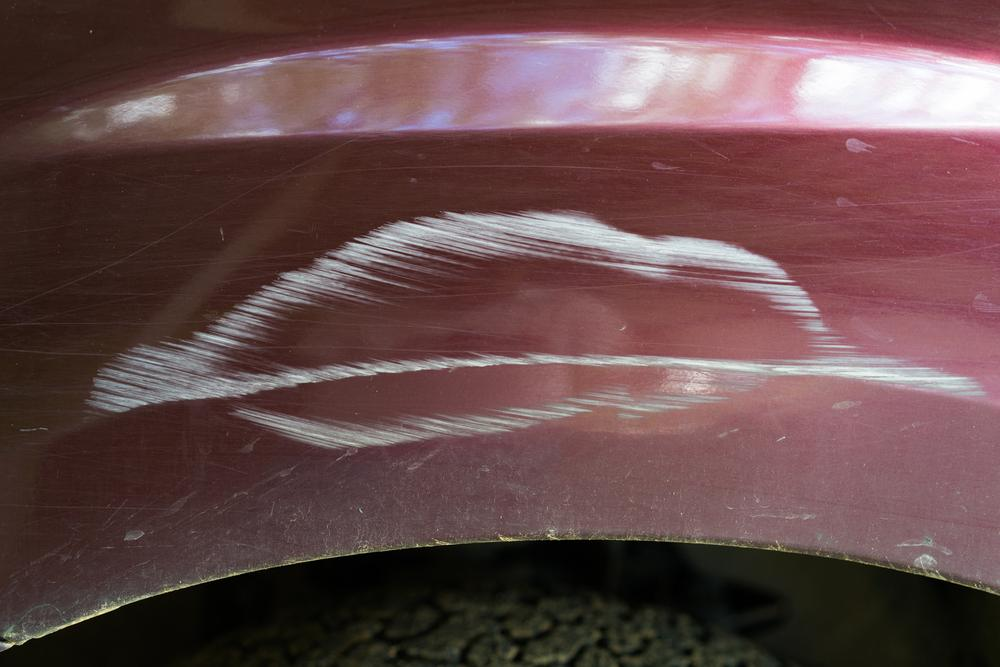scratch: (80, 207, 996, 455)
